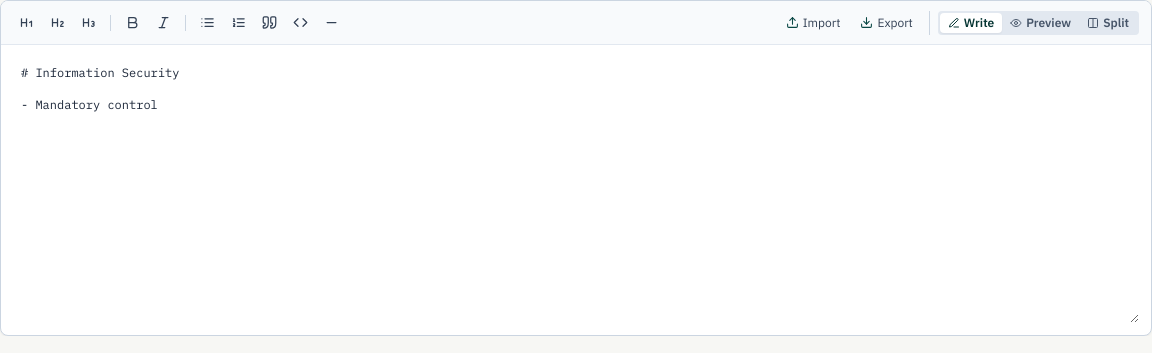
Test case: Phase 3 Workflows: Risk Clause Dropdown, Policy Governance & Vulnerability Ownership › Scope B — Policy Structured Editor & Category Settings › PolicyEditor toggles between Write and Preview modes safely
// Switch to preview
Click the button "Preview": (1041, 22) [1002, 12, 1079, 32]
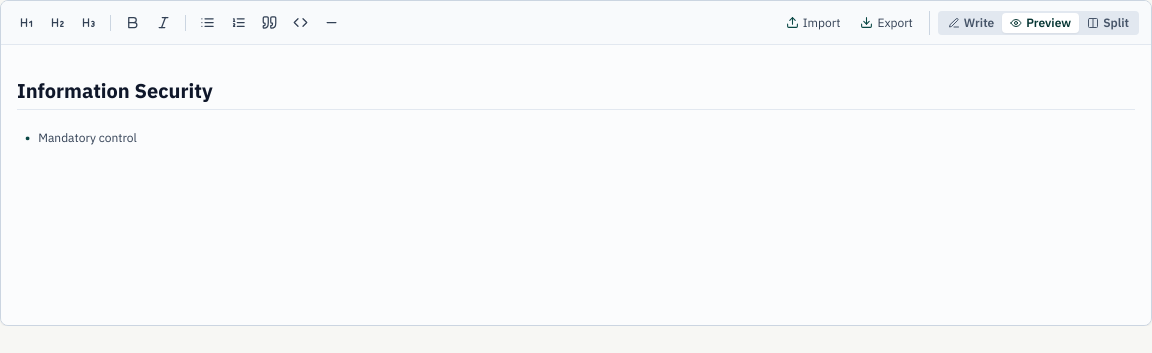
Expected: the heading "Information Security" is shown, [17, 77, 1135, 110]
Expected: the text "Mandatory control" is shown, [38, 130, 137, 146]
